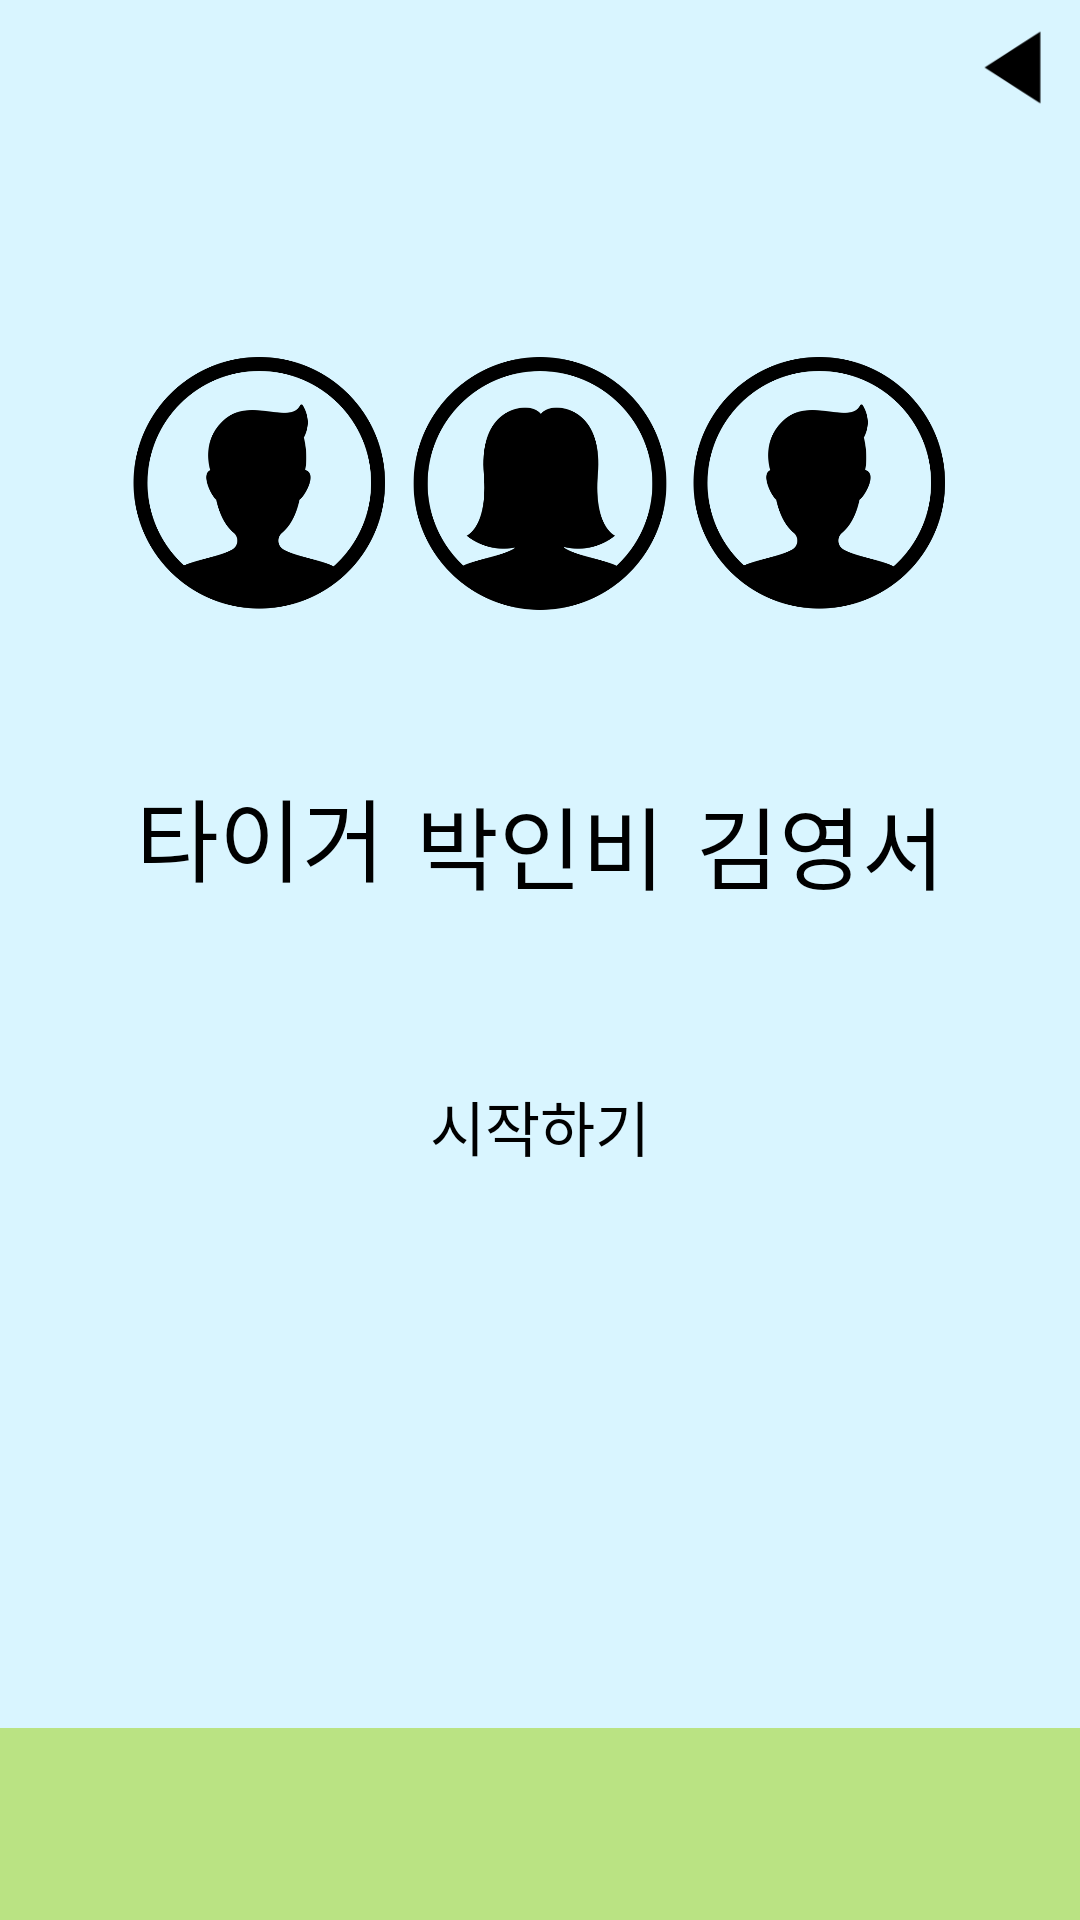

Named icons in this screenshot (1080w x 1920h) and their centers, (x=x, y=y):
back: (x=1012, y=67)
profile: (x=259, y=483), (x=540, y=483), (x=819, y=483)
